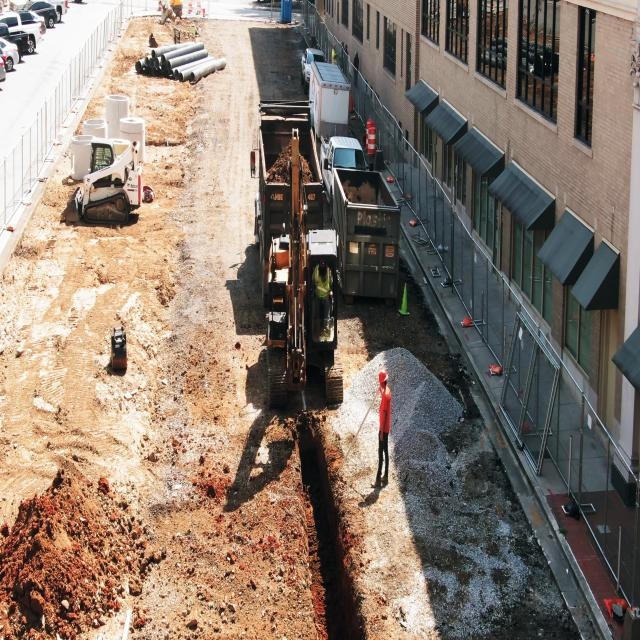machinery: (267, 232, 342, 407), (252, 100, 328, 228), (74, 141, 144, 231)
worker: (376, 369, 394, 491)
